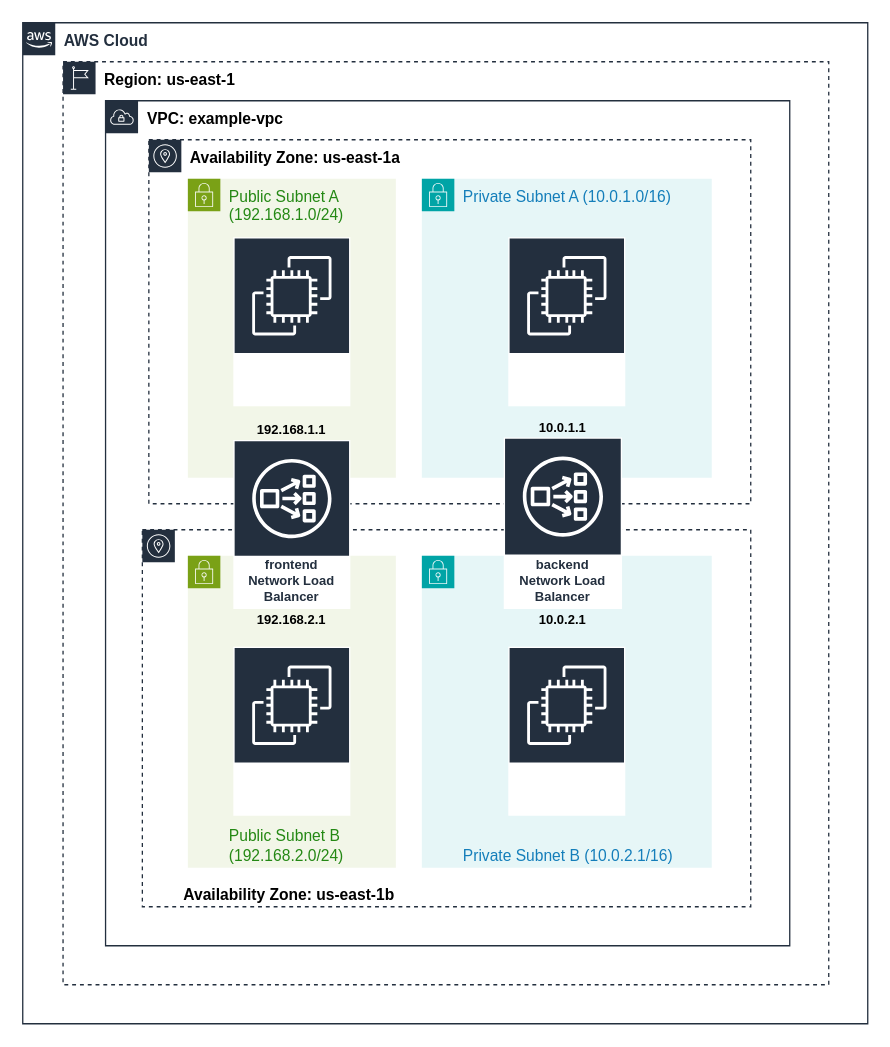
Some shapes in this 890 by 1047 pixel diagram are drawn without their labels. The centre of each missing label's shape, as x and y in pixels:
my-app EC2 Instance 10.0.1.5: point (566, 321)
my-app EC2 Instance 10.0.2.5: point (566, 730)
reverse-proxy EC2 Instance 192.168.1.20: point (291, 321)
reverse-proxy EC2 Instance 192.168.2.20: point (291, 730)
